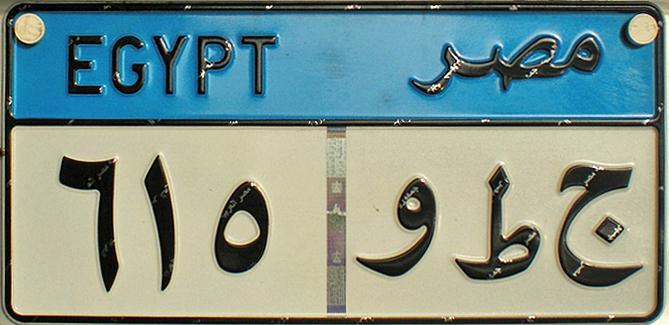1: (133, 149, 193, 297)
5: (199, 167, 289, 282)
6: (51, 152, 125, 304)
Taa: (450, 159, 545, 285)
jeem: (552, 161, 648, 296)
waw: (352, 165, 443, 281)
